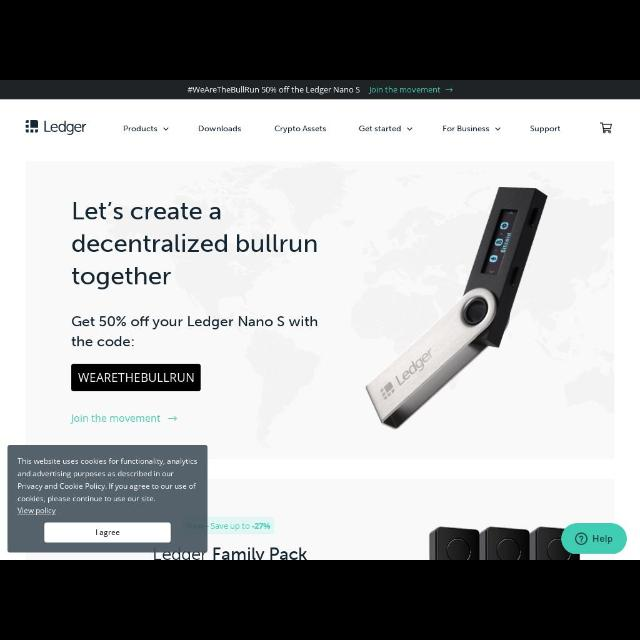backgroundimage: (1, 99, 640, 559)
button: (562, 524, 626, 554)
icon: (26, 120, 38, 132), (575, 533, 587, 545), (600, 121, 612, 132), (168, 414, 178, 422), (445, 88, 453, 92), (164, 128, 168, 130), (496, 128, 500, 130), (408, 128, 412, 130)
spinner: (444, 126, 501, 132), (358, 126, 412, 132), (124, 126, 168, 132)
text: (72, 234, 318, 252), (72, 316, 318, 330), (74, 201, 220, 219), (72, 268, 170, 290), (153, 547, 307, 559), (18, 458, 196, 466), (18, 483, 196, 491), (188, 86, 360, 94), (18, 470, 174, 478), (78, 372, 194, 382), (17, 496, 155, 504), (70, 414, 160, 424), (71, 335, 133, 347), (44, 120, 86, 136), (368, 86, 440, 94), (212, 523, 270, 531), (274, 125, 326, 133), (18, 507, 56, 515), (443, 126, 489, 132), (199, 126, 241, 132), (359, 126, 401, 132), (530, 125, 560, 133), (124, 126, 156, 132), (96, 529, 120, 537), (594, 534, 612, 544)
textbutton: (72, 364, 200, 391), (46, 523, 170, 543)
